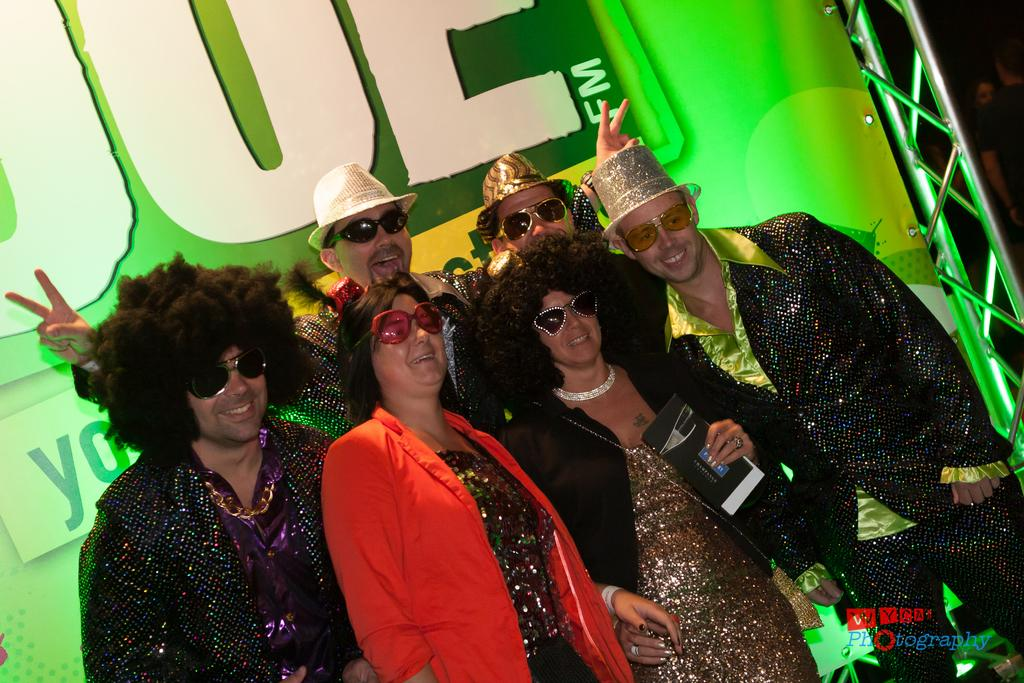Hat: (591, 143, 702, 241), (304, 158, 416, 252), (474, 151, 576, 245)
